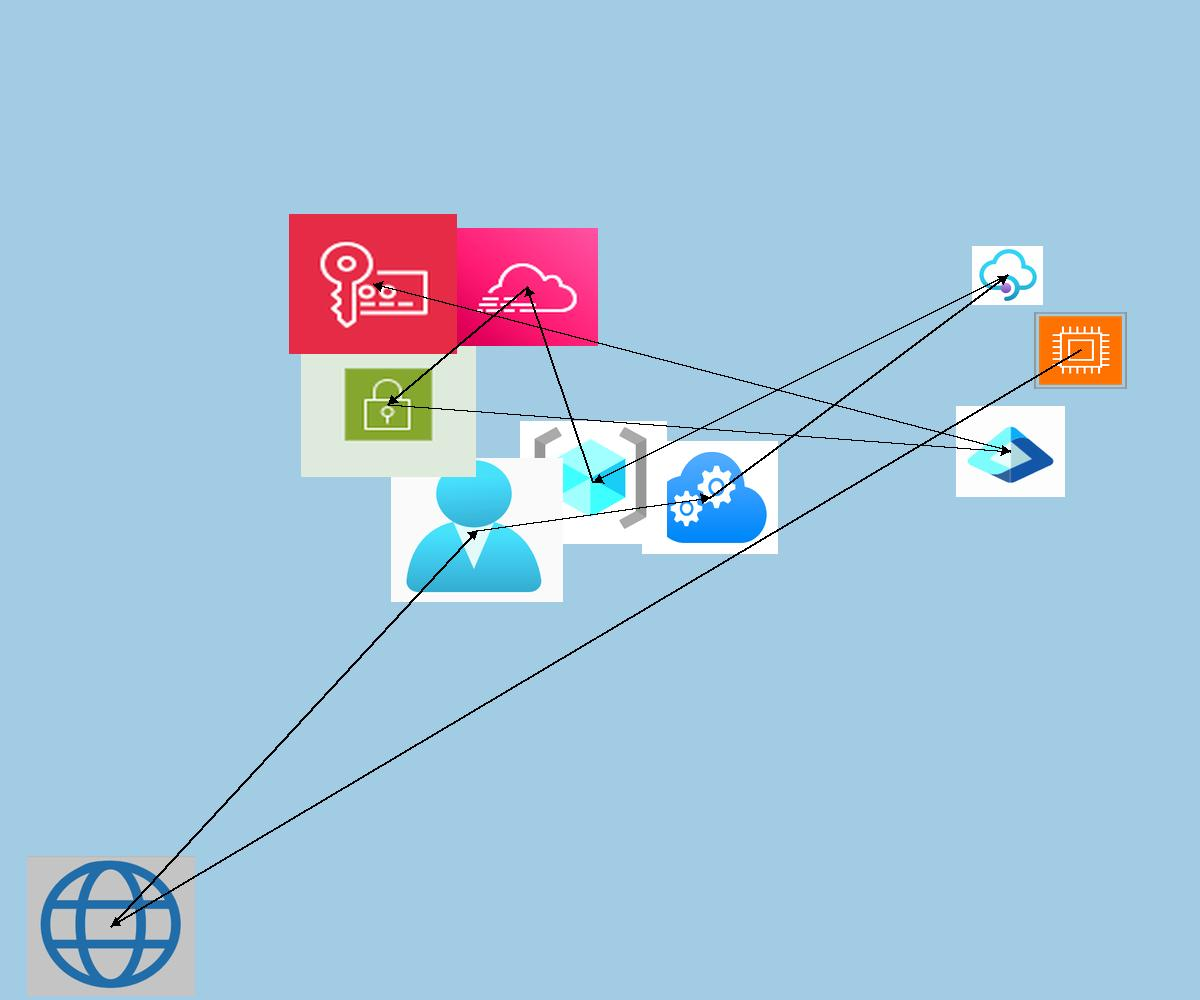AWS-Category_Compute: (1034, 312, 1127, 389)
AWS-CloudTrail: (456, 228, 598, 346)
AWS-Key-Management-Service: (289, 214, 457, 354)
AWS-Public-subnet: (301, 332, 476, 477)
Azure_api_gateway: (972, 246, 1043, 305)
Azure_cloud_services: (642, 441, 778, 554)
Azure_http: (27, 856, 195, 996)
Azure_microsoft_entra: (956, 406, 1065, 497)
Azure_resource_group: (520, 421, 667, 544)
Azure_users: (391, 458, 563, 602)
